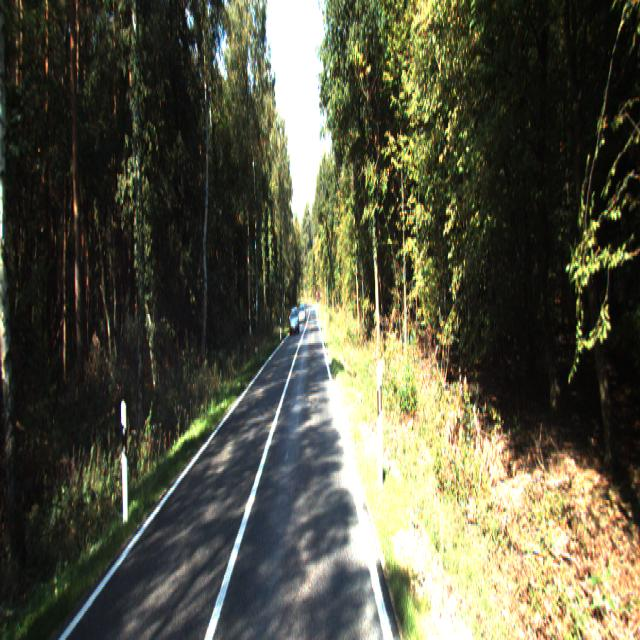Car: (289, 307, 300, 336)
DontCare: (299, 302, 312, 326)
